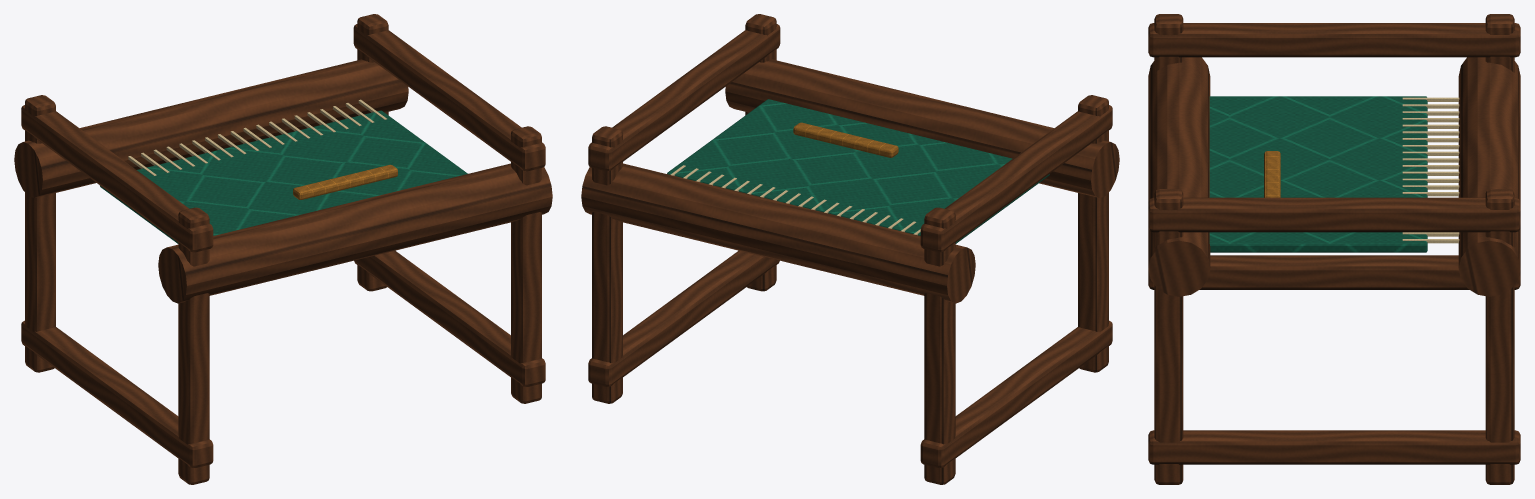
Rendered from tailoring_loom.glb.
The picture shows the model from 3 angles, left to right: view 1: azimuth 30°, elevation 25°; view 2: azimuth 150°, elevation 25°; view 3: azimuth 270°, elevation 25°; orthographic projection. The views are drawn at different scales.
Parts seen in each view (by area): view 1: tailoring_loom_Walnut, tailoring_loom_Silk, tailoring_loom_Paper, tailoring_loom_Brass; view 2: tailoring_loom_Walnut, tailoring_loom_Silk, tailoring_loom_Brass, tailoring_loom_Paper; view 3: tailoring_loom_Walnut, tailoring_loom_Silk, tailoring_loom_Paper, tailoring_loom_Brass.
Part boxes in pixels (<box>): tailoring_loom_Walnut: <box>14,14,552,484</box>; tailoring_loom_Silk: <box>100,110,467,243</box>; tailoring_loom_Paper: <box>128,99,386,175</box>; tailoring_loom_Brass: <box>293,164,397,199</box>; tailoring_loom_Walnut: <box>581,14,1119,484</box>; tailoring_loom_Silk: <box>667,99,1049,243</box>; tailoring_loom_Brass: <box>793,122,898,157</box>; tailoring_loom_Paper: <box>670,165,920,235</box>; tailoring_loom_Walnut: <box>1148,14,1520,484</box>; tailoring_loom_Silk: <box>1209,96,1427,252</box>; tailoring_loom_Paper: <box>1402,97,1459,243</box>; tailoring_loom_Brass: <box>1264,151,1280,197</box>.
Bounding box in the file's own units: 2.2 × 1.54 × 1.8.
Materials: 4 (4 with a texture image).
